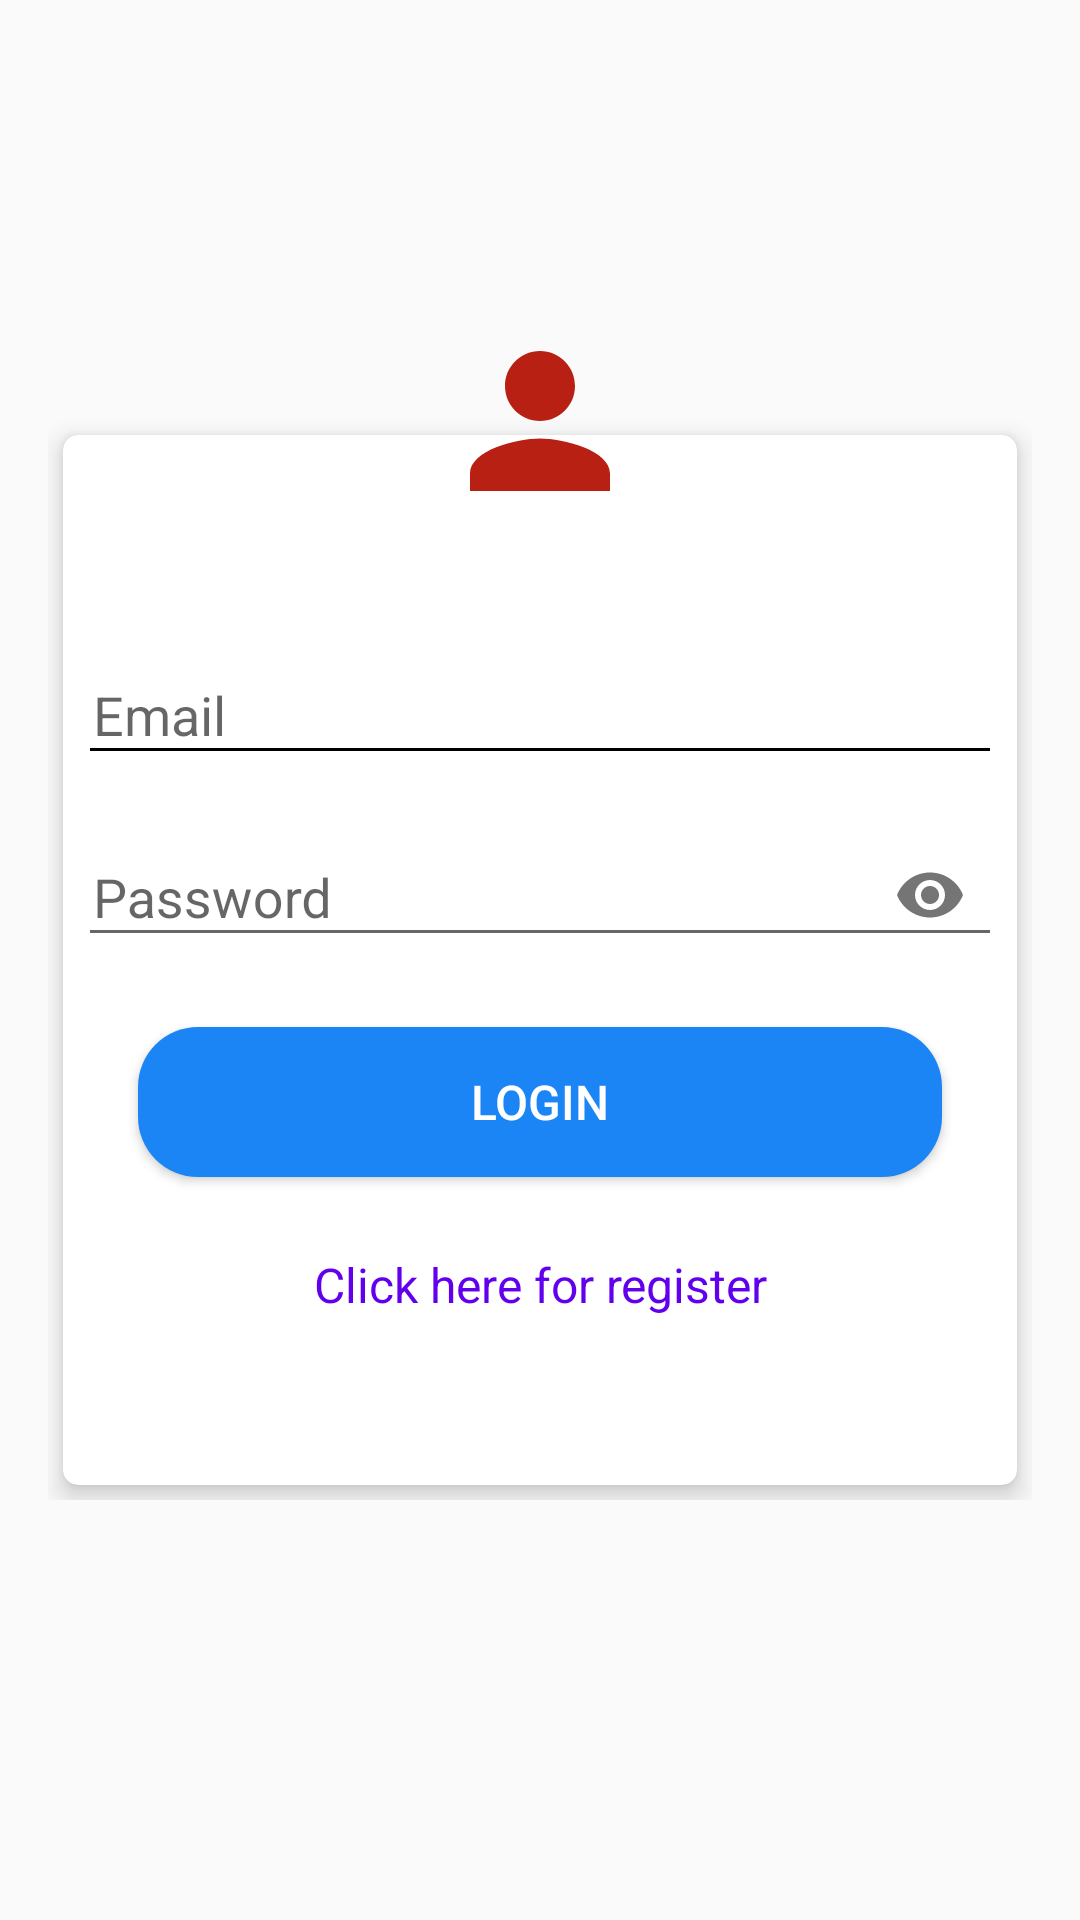

Named icons in this screenshot (1080*1920) and their bounding boxes, (x1, y1, x2, y2):
person: (470, 351, 610, 491)
